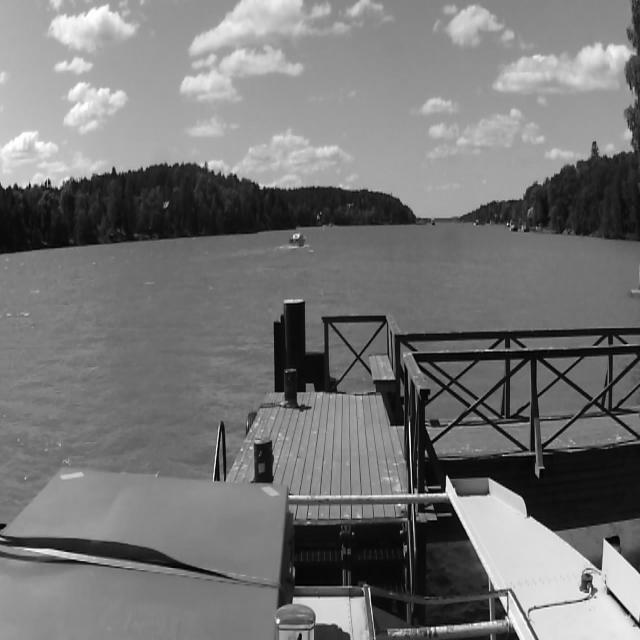ship: (289, 230, 306, 247)
